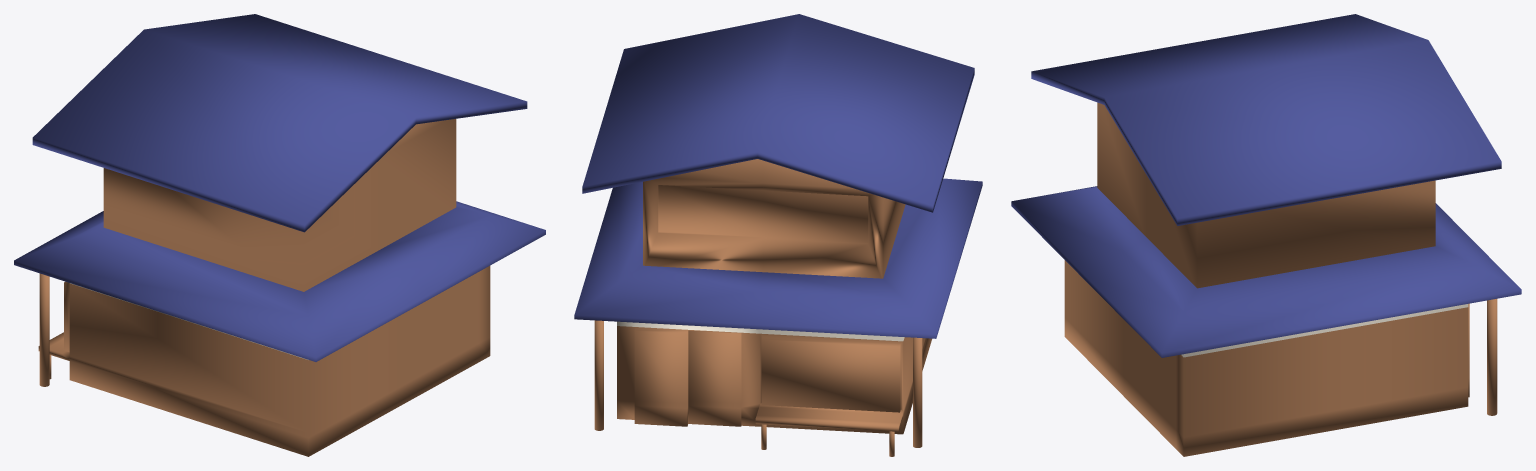
The model's file is 039_古民家005.glb.
3 renders of one model, left to right at view 1: azimuth 30°, elevation 25°; view 2: azimuth 150°, elevation 25°; view 3: azimuth 270°, elevation 25°, orthographic. The views are drawn at different scales.
Visible parts, largest first — view 1: 立方体031_1, 立方体031_3, 立方体031; view 2: 立方体031_1, 立方体031_4, 立方体031_3, 立方体031, 立方体031_2; view 3: 立方体031_1, 立方体031_3, 立方体031, 立方体031_2.
Boxes of the visible parts, x1=… form: 立方体031_1: x1=14, y1=14, x2=545, y2=361; 立方体031_3: x1=38, y1=119, x2=490, y2=456; 立方体031: x1=39, y1=273, x2=65, y2=386; 立方体031_1: x1=574, y1=14, x2=982, y2=338; 立方体031_4: x1=634, y1=185, x2=900, y2=426; 立方体031_3: x1=617, y1=159, x2=931, y2=434; 立方体031: x1=594, y1=320, x2=922, y2=456; 立方体031_2: x1=617, y1=321, x2=904, y2=341; 立方体031_1: x1=1011, y1=14, x2=1521, y2=357; 立方体031_3: x1=1064, y1=102, x2=1468, y2=456; 立方体031: x1=1487, y1=299, x2=1497, y2=415; 立方体031_2: x1=1181, y1=304, x2=1468, y2=357.
Bounding box in the file's own units: 3.74 × 2.53 × 3.74.
